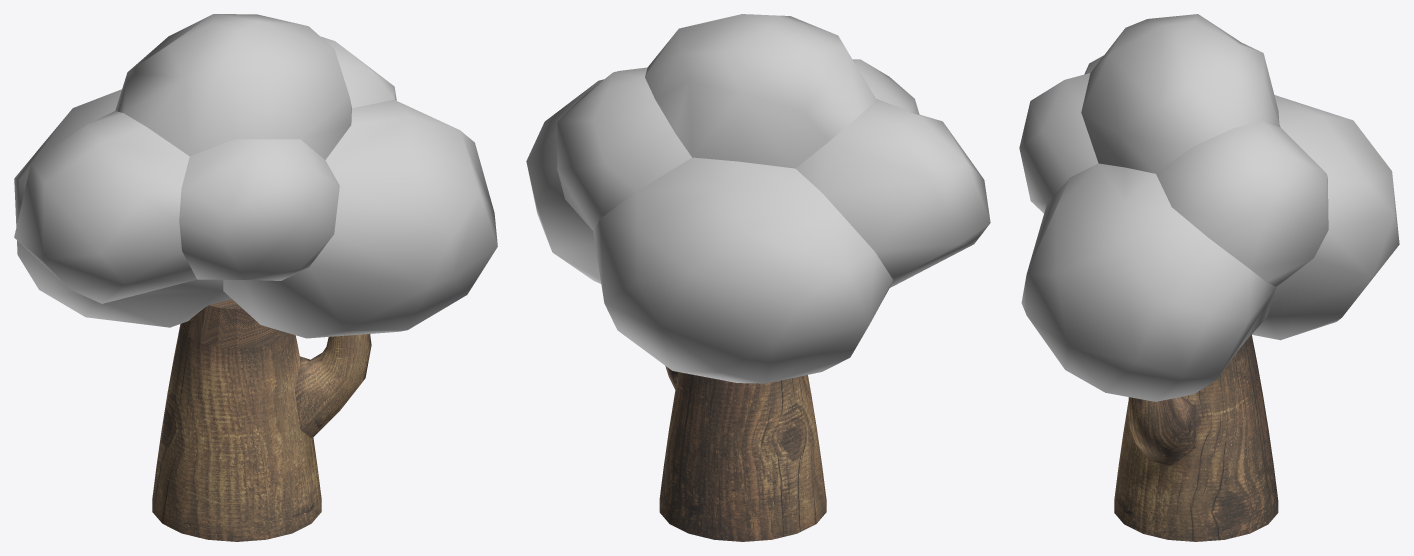
The model's file is tree01.FBX.
3 renders of one model, left to right at view 1: azimuth 30°, elevation 25°; view 2: azimuth 150°, elevation 25°; view 3: azimuth 270°, elevation 25°, orthographic. The views are drawn at different scales.
Parts seen in each view (by area): view 1: Sphere003, Cylinder001; view 2: Sphere003, Cylinder001; view 3: Sphere003, Cylinder001.
Boxes of the visible parts, <box> form: Sphere003: <box>14,14,497,338</box>; Cylinder001: <box>152,299,371,541</box>; Sphere003: <box>526,14,990,383</box>; Cylinder001: <box>659,366,826,541</box>; Sphere003: <box>1019,14,1399,401</box>; Cylinder001: <box>1114,335,1278,541</box>.
Size of the model in its own units: 69.89 by 72.65 by 52.87.
